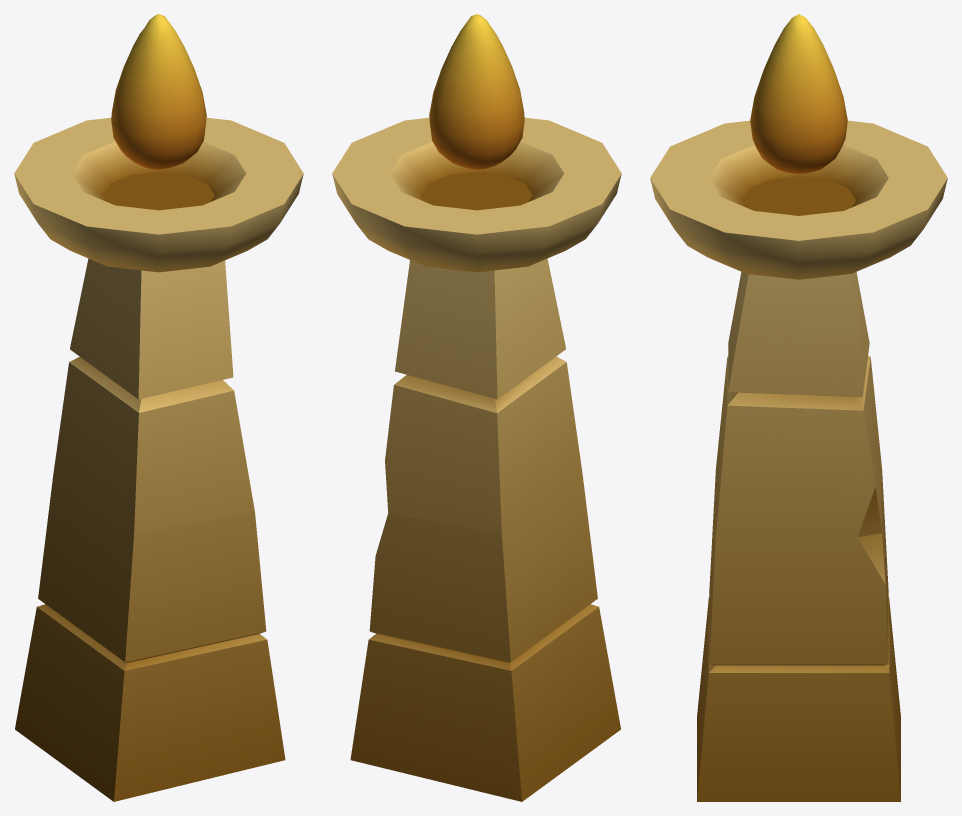
The model's file is TORCH.fbx.
The picture shows the model from 3 angles, left to right: view 1: azimuth 30°, elevation 25°; view 2: azimuth 150°, elevation 25°; view 3: azimuth 270°, elevation 25°; orthographic projection. The views are drawn at different scales.
Visible parts, largest first — view 1: Sphere; view 2: Sphere; view 3: Sphere.
Part boxes in pixels (x1,y1,x2,y2): Sphere: (14, 14, 303, 801); Sphere: (332, 14, 621, 801); Sphere: (650, 14, 947, 801).
Bounding box in the file's own units: 14.61 × 40.57 × 14.61.
1 material, 1 textured.
